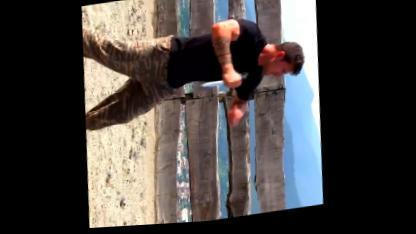knife: (199, 75, 245, 94)
